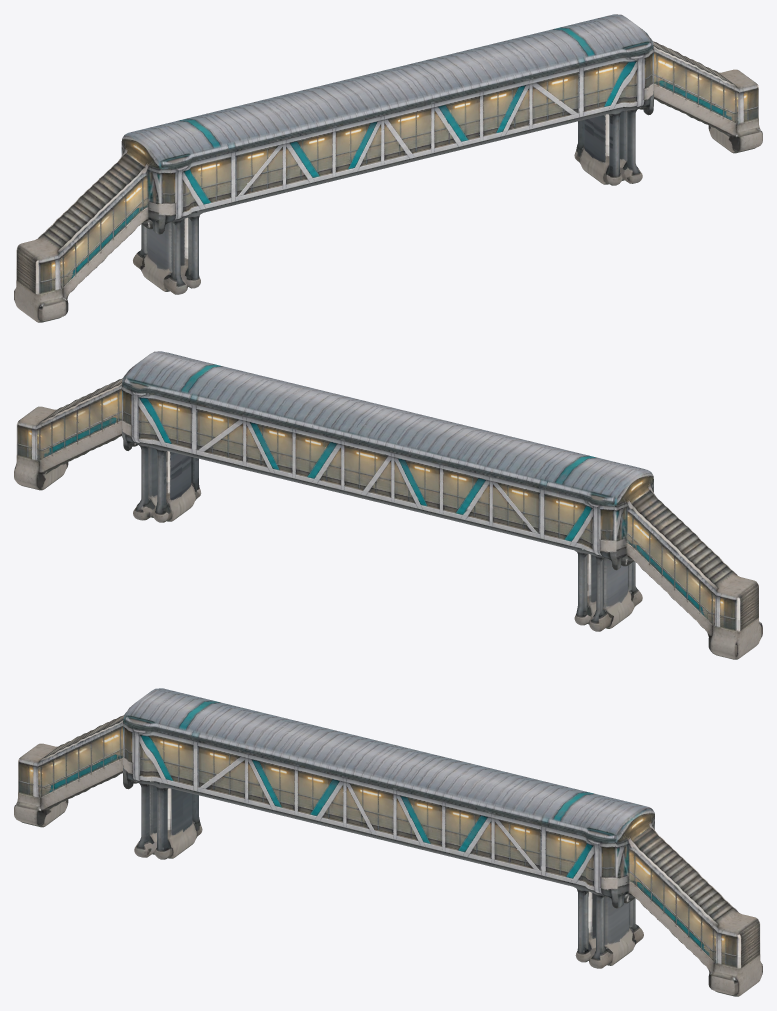
Rendered from bridge-jpo.glb.
3 renders of one model, top to bottom at view 1: azimuth 30°, elevation 25°; view 2: azimuth 150°, elevation 25°; view 3: azimuth 330°, elevation 25°, orthographic.
Parts seen in each view (by area): view 1: bridge-jpo; view 2: bridge-jpo; view 3: bridge-jpo.
Boxes of the visible parts, bbox=[...] form: bridge-jpo: bbox=[14, 14, 762, 322]; bridge-jpo: bbox=[14, 351, 762, 659]; bridge-jpo: bbox=[14, 688, 762, 996].
Size of the model in its own units: 64 by 12.6 by 7.02.
Materials: 1 (1 with a texture image).
